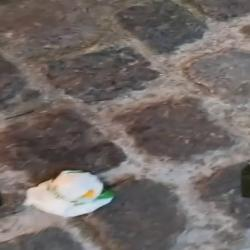Restaffald: (25, 171, 114, 218)
